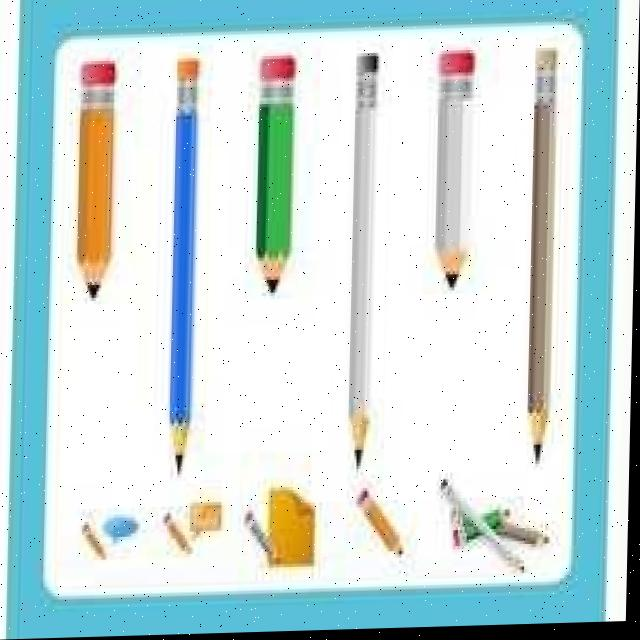pencil: (162, 43, 228, 482), (341, 41, 391, 479), (241, 30, 313, 329), (68, 52, 139, 323), (524, 34, 564, 489), (426, 41, 485, 298)
